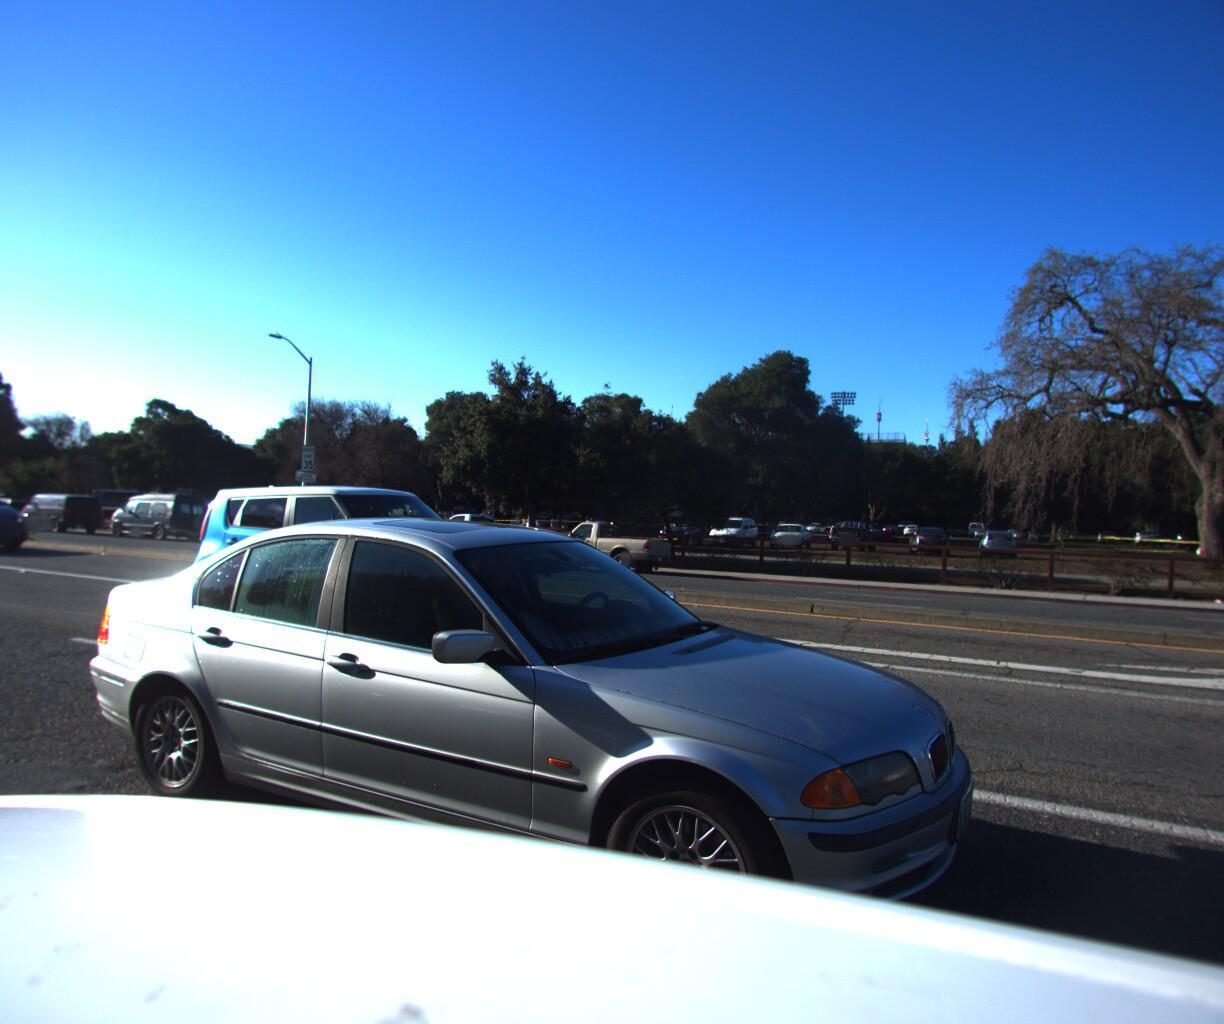car: (59, 501, 1005, 1024), (186, 480, 596, 672), (404, 504, 559, 560), (529, 513, 678, 569), (107, 486, 215, 536), (14, 488, 104, 530), (0, 473, 41, 552)
other_vehicle: (0, 465, 7, 520)
